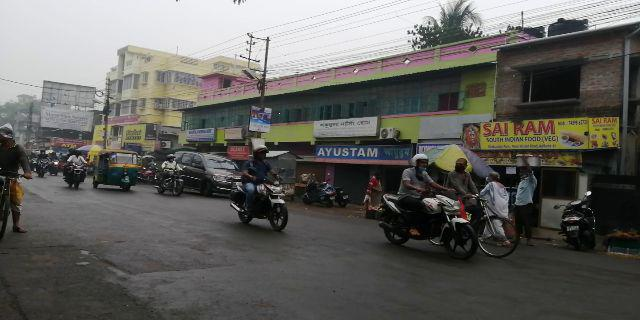Autorickshaw: (100, 149, 140, 188)
Car: (171, 142, 239, 200)
Motorbike: (372, 157, 480, 259), (235, 157, 294, 232)
